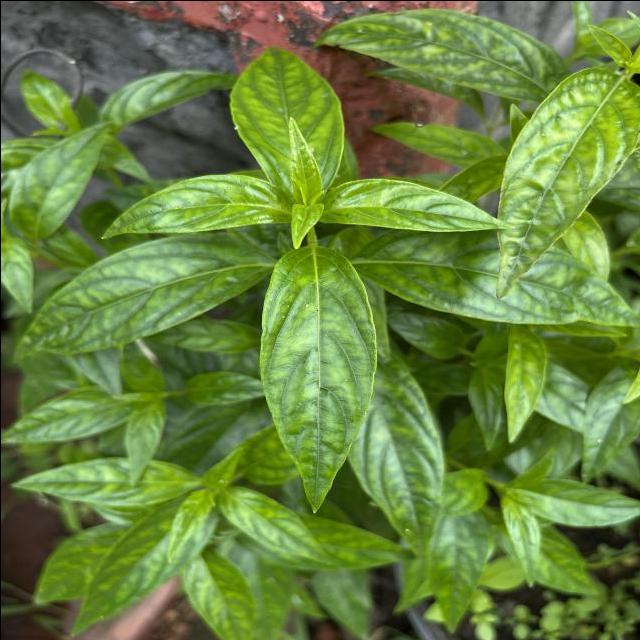Andrographis paniculata: (5, 229, 278, 366), (490, 63, 640, 302), (255, 242, 378, 514), (306, 6, 574, 103), (66, 496, 217, 640), (349, 348, 446, 562), (228, 43, 346, 191), (97, 172, 290, 244), (5, 118, 116, 242), (316, 176, 516, 234), (7, 454, 200, 506), (425, 510, 491, 633), (0, 384, 132, 442), (99, 69, 231, 125), (517, 476, 640, 526), (500, 325, 548, 443)
